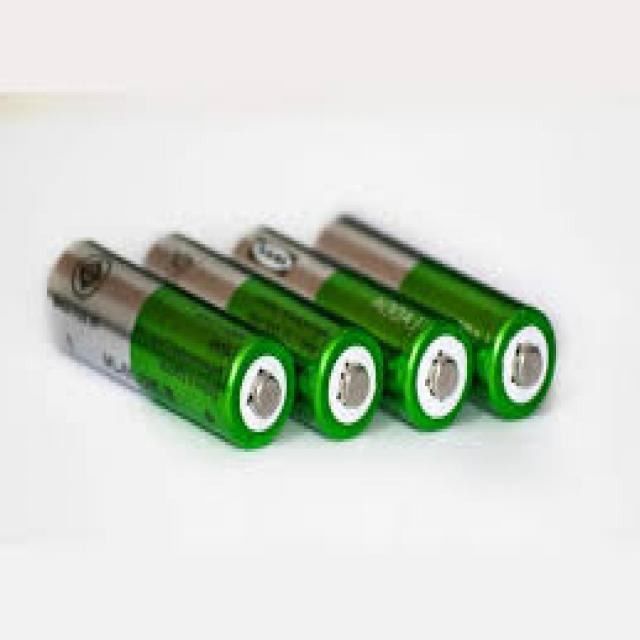battery: (44, 232, 294, 448), (140, 228, 386, 441), (311, 215, 559, 418), (230, 222, 470, 430)
